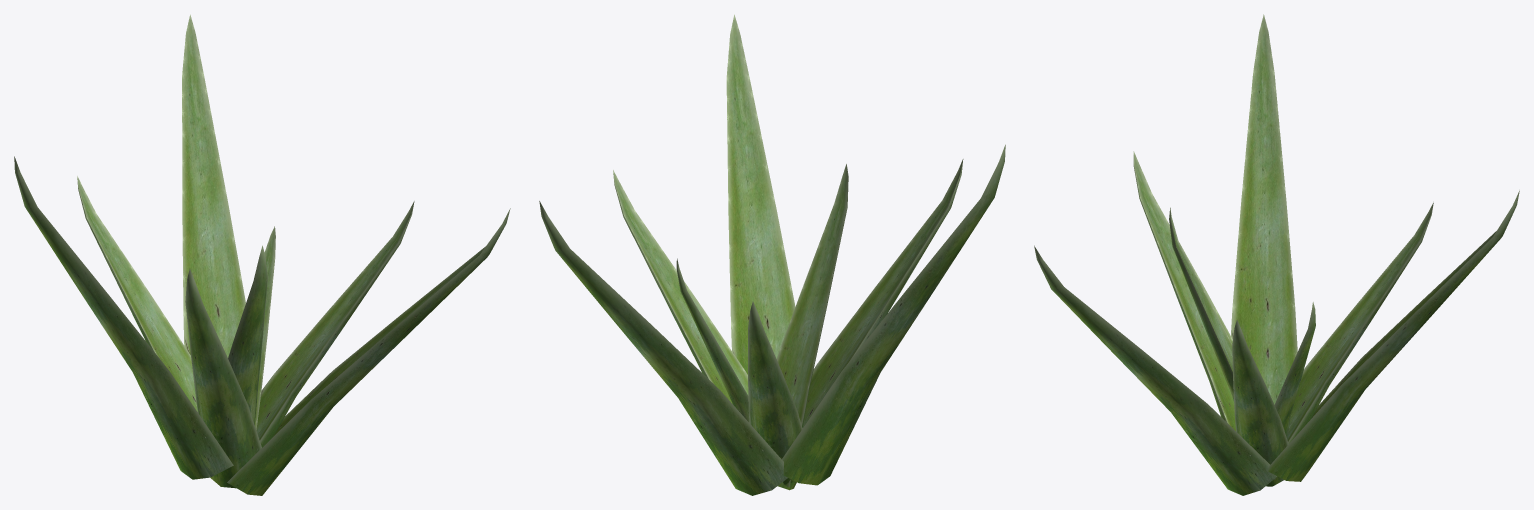
Rendered from ALOES_ZEJA.fbx.
3 renders of one model, left to right at view 1: azimuth 30°, elevation 25°; view 2: azimuth 150°, elevation 25°; view 3: azimuth 270°, elevation 25°, orthographic. The views are drawn at different scales.
Parts seen in each view (by area): view 1: Cube.004; view 2: Cube.004; view 3: Cube.004.
Boxes of the visible parts, x1,y1,x2,y2 form: Cube.004: (14,14,510,495); Cube.004: (539,14,1005,495); Cube.004: (1034,14,1519,495).
Size of the model in its own units: 1434 by 1357 by 1625.
Materials: 1 (1 with a texture image).
